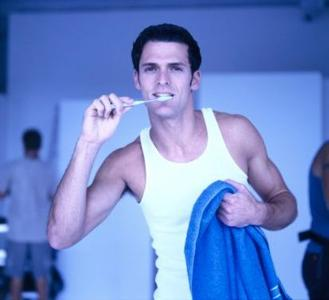person: (46, 23, 298, 300)
